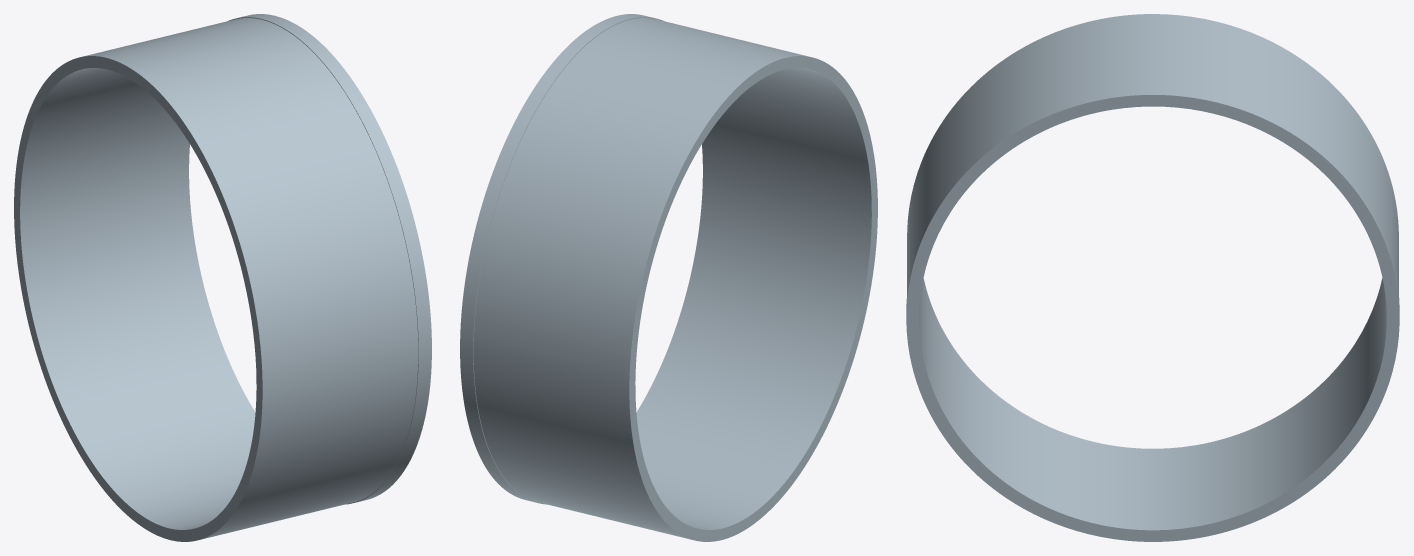
Rendered from bypass-inner-fairing.glb.
The picture shows the model from 3 angles, left to right: view 1: azimuth 30°, elevation 25°; view 2: azimuth 150°, elevation 25°; view 3: azimuth 270°, elevation 25°; orthographic projection.
Parts seen in each view (by area): view 1: bypass-inner-fairing - steel; view 2: bypass-inner-fairing - steel; view 3: bypass-inner-fairing - steel.
Boxes of the visible parts, bbox=[...] form: bypass-inner-fairing - steel: bbox=[14, 14, 431, 541]; bypass-inner-fairing - steel: bbox=[460, 14, 877, 541]; bypass-inner-fairing - steel: bbox=[906, 14, 1399, 541].
Size of the model in its own units: 0.51 by 1.3 by 1.3.
